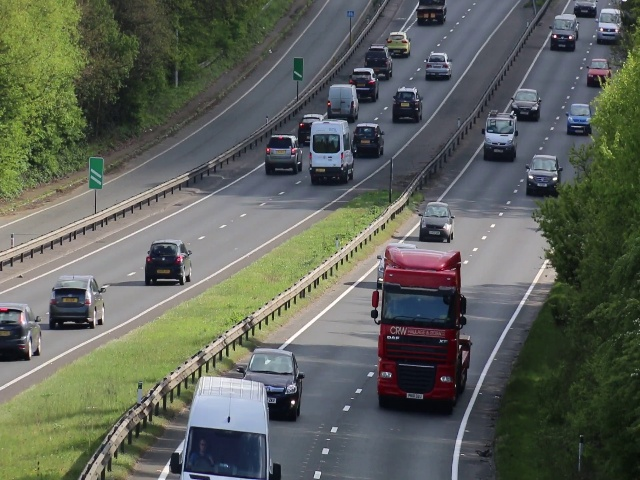car: (374, 261, 454, 410), (170, 401, 274, 480), (242, 349, 304, 414), (48, 275, 106, 327), (306, 124, 353, 182), (1, 302, 41, 359), (143, 237, 190, 285), (263, 133, 303, 175), (348, 120, 386, 161), (527, 154, 561, 199), (420, 200, 457, 241), (485, 113, 516, 159), (328, 81, 357, 120), (394, 85, 421, 126), (349, 67, 380, 101), (550, 12, 575, 51), (512, 89, 542, 118), (422, 51, 452, 80), (584, 54, 611, 86), (367, 44, 392, 78), (566, 104, 589, 135), (417, 1, 448, 24), (386, 30, 410, 58), (299, 115, 320, 141)
